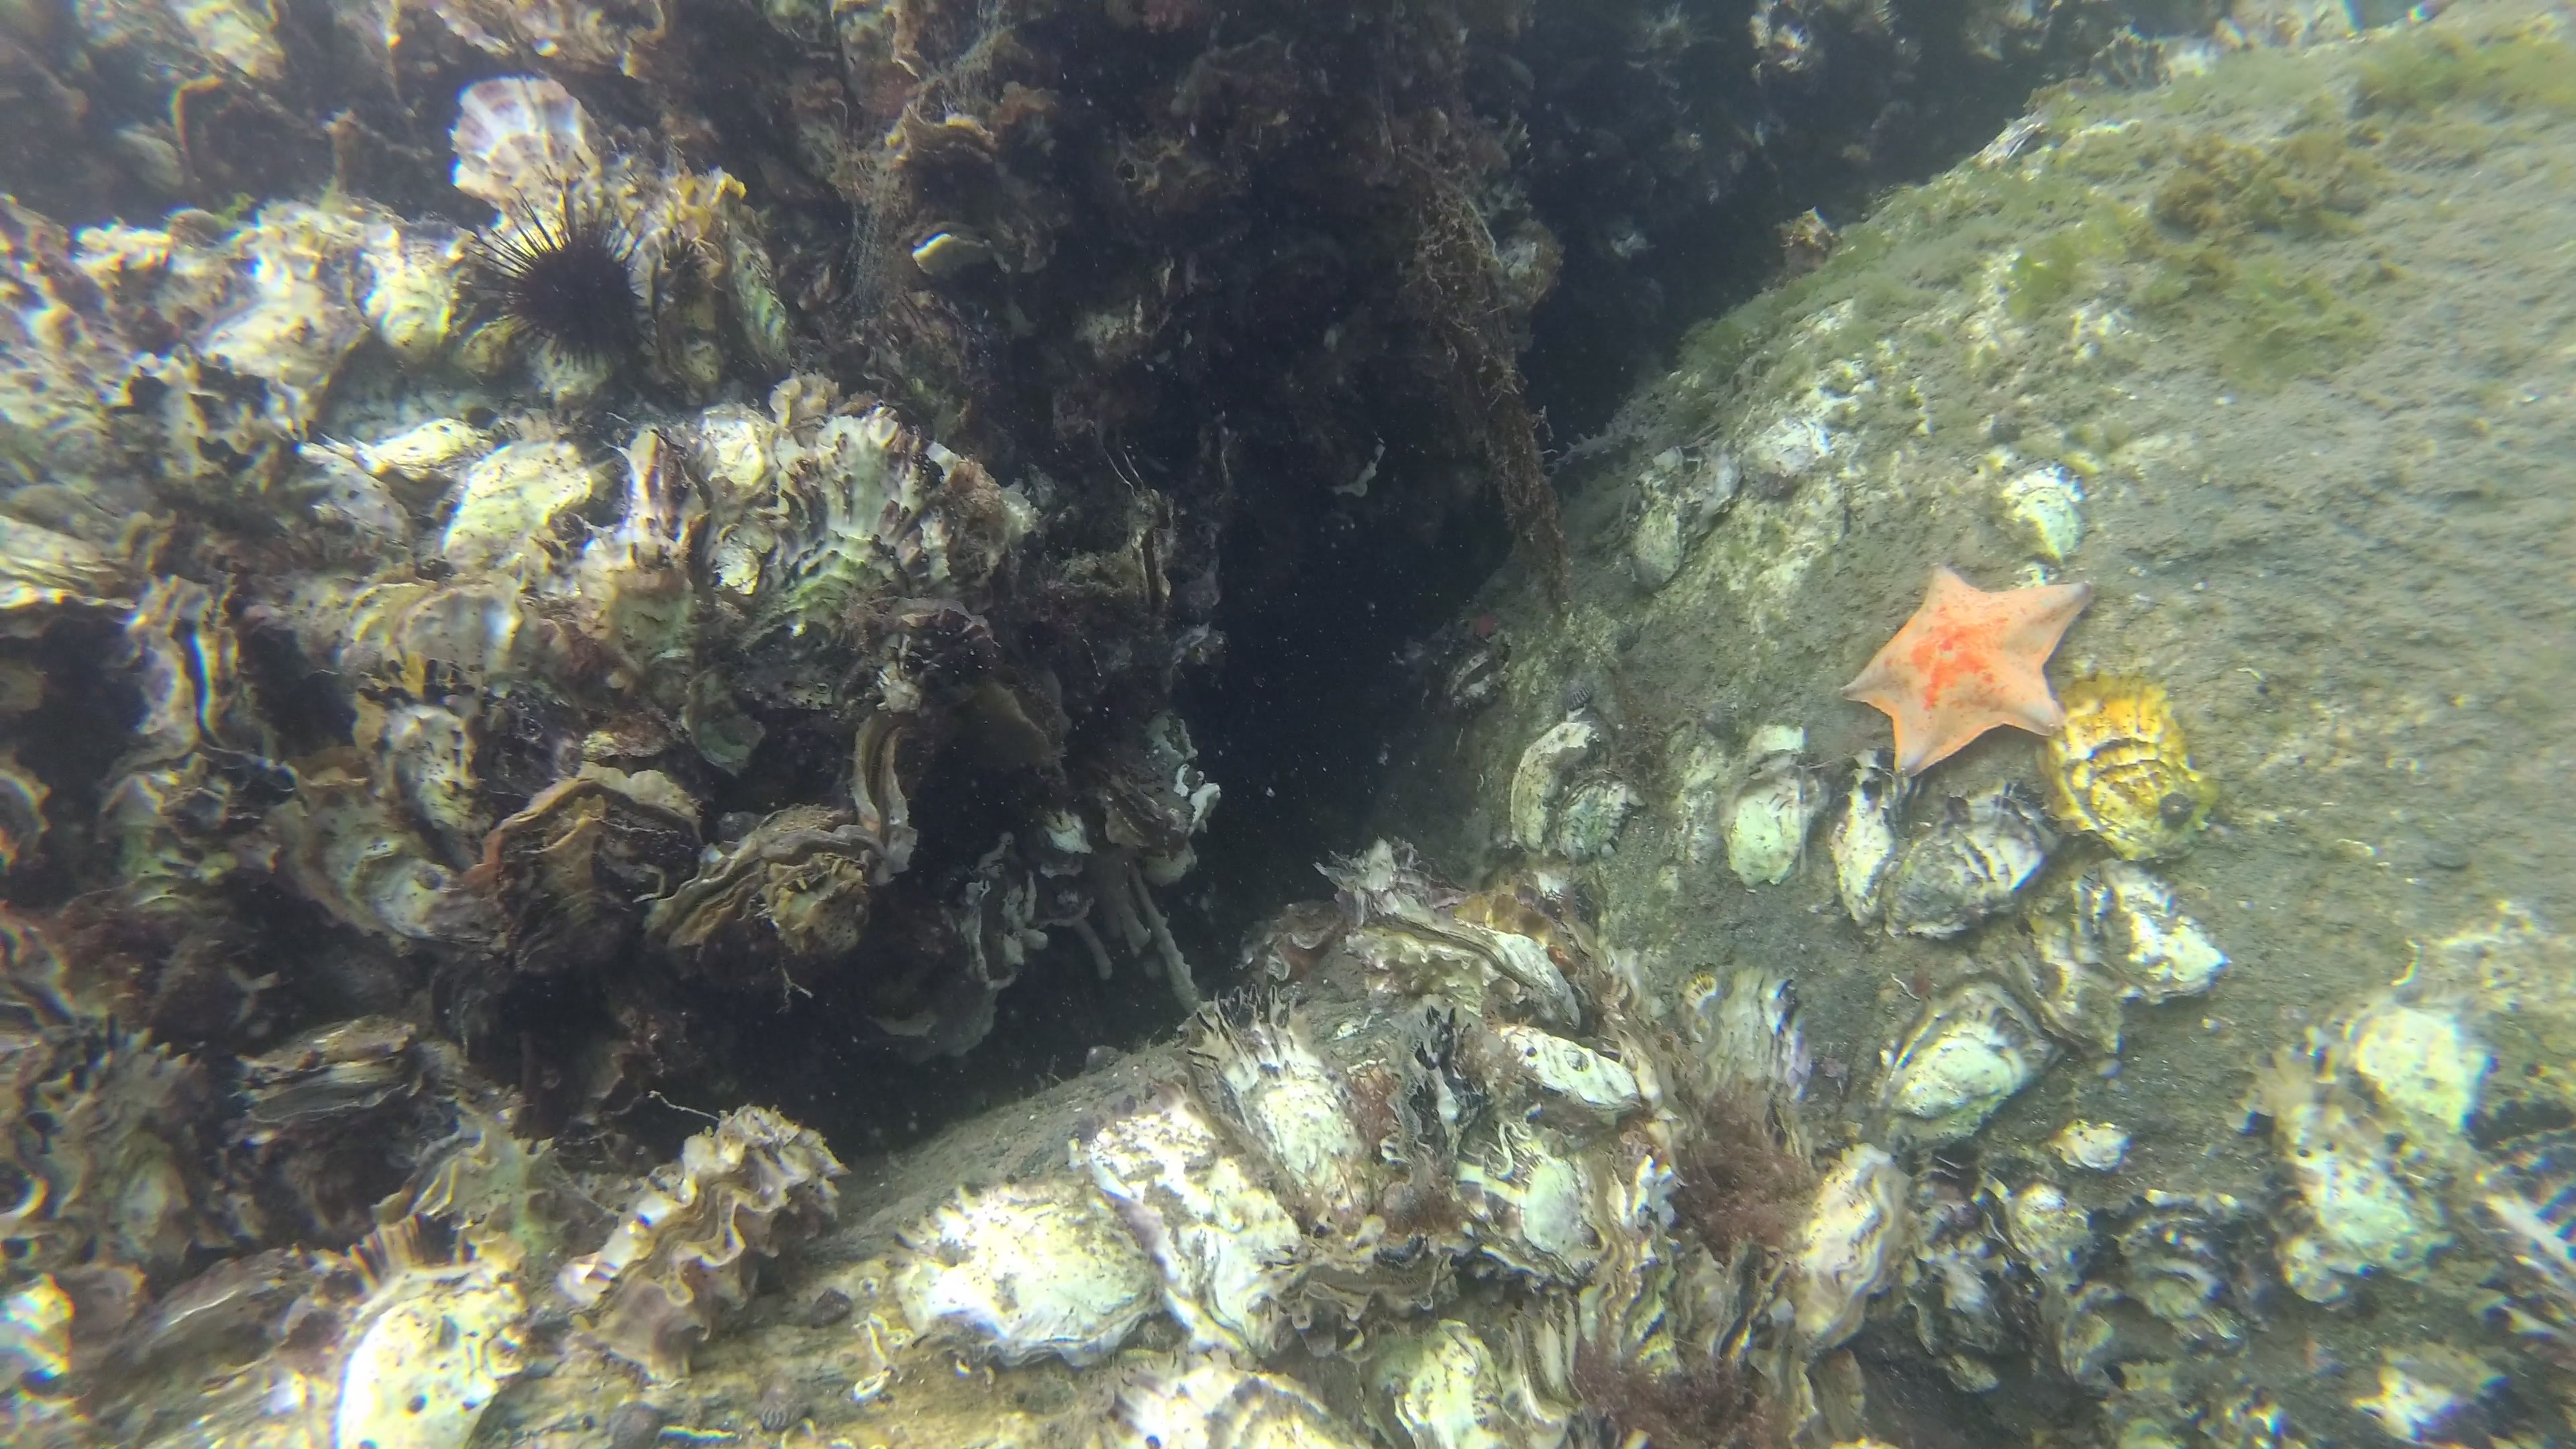echinus: (465, 211, 658, 377)
starfish: (1840, 556, 2091, 782)
